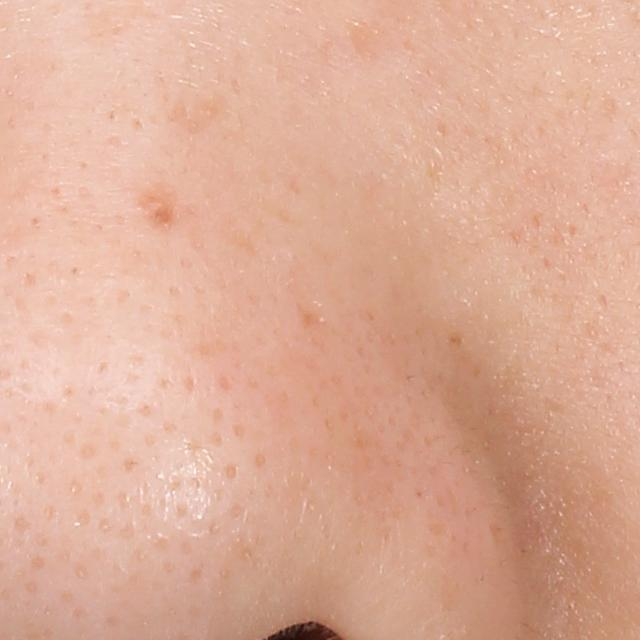melasma: (343, 16, 388, 58)
